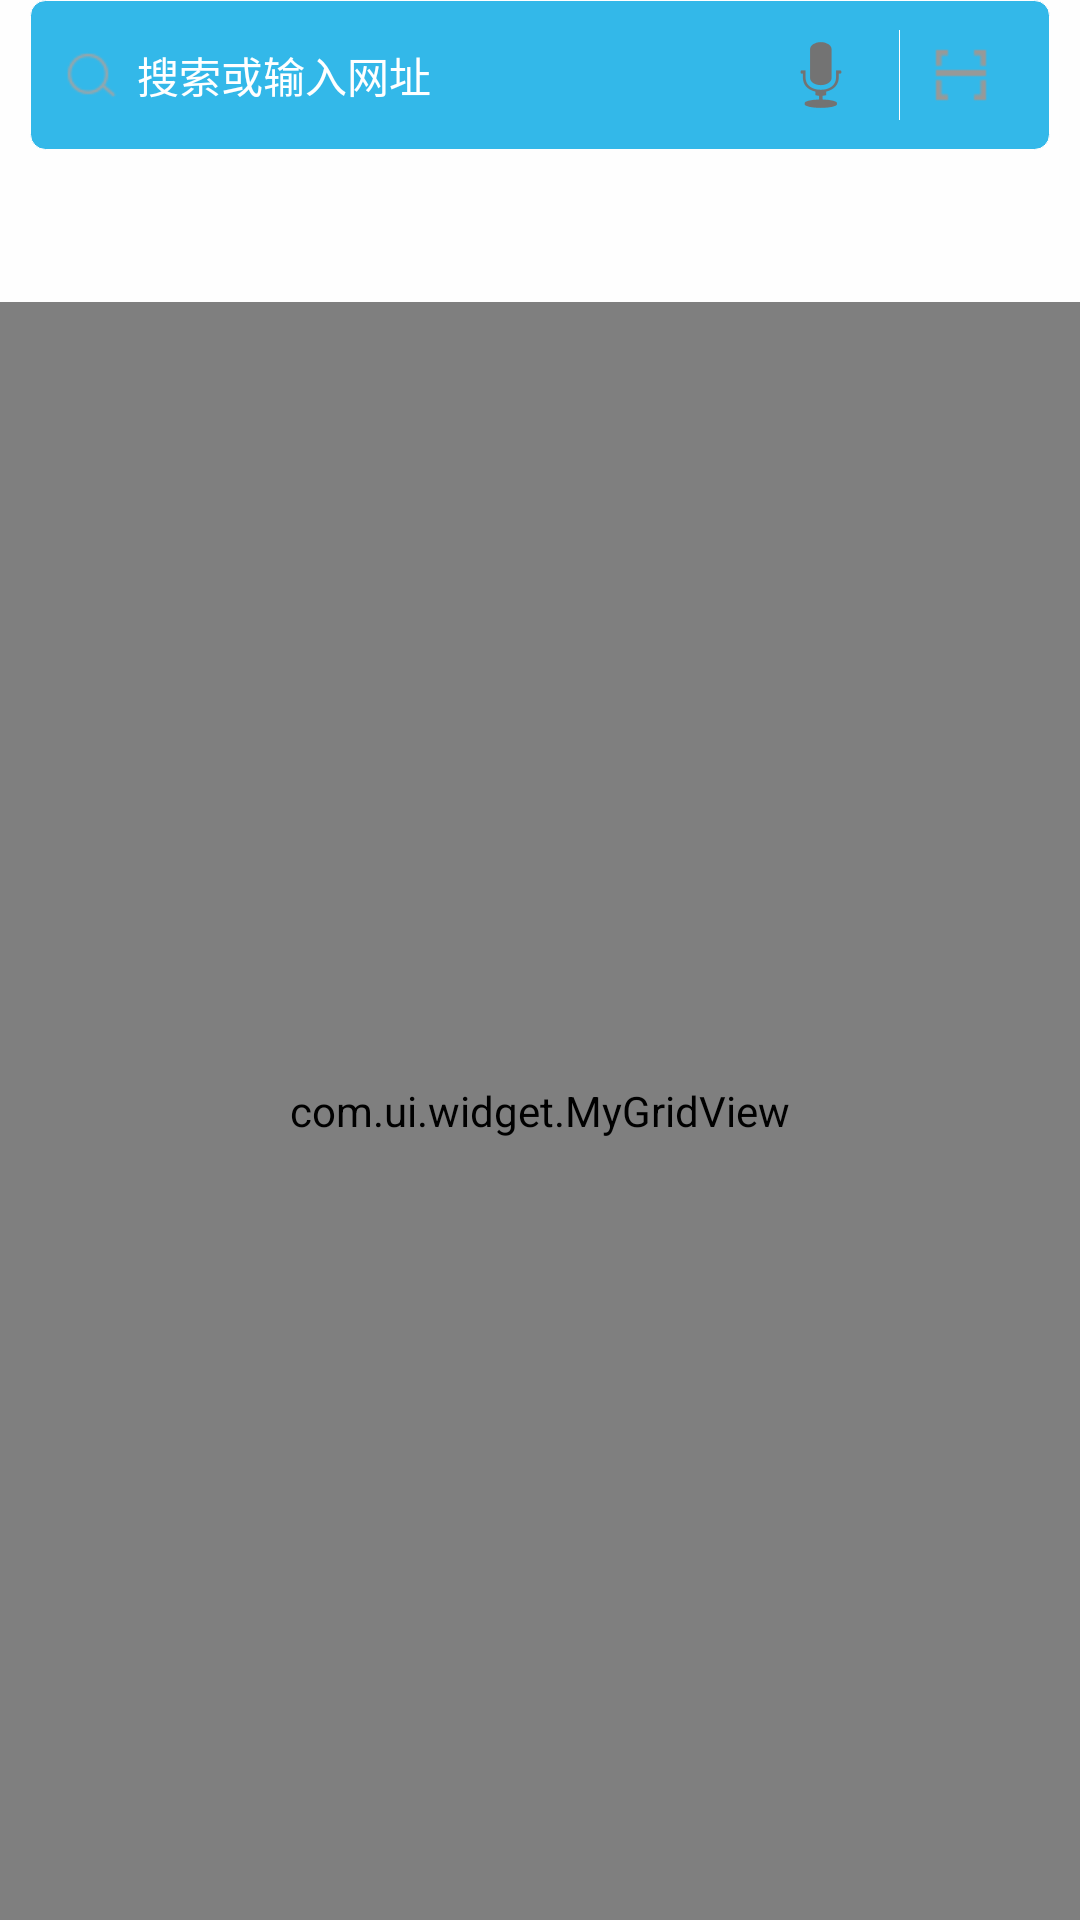

Icon bounding boxes for this 1080×1920 phone screenshot, format Rect(x1, y1, x2, y2):
speak now: Rect(800, 42, 842, 108)
sweep: Rect(935, 49, 987, 101)
